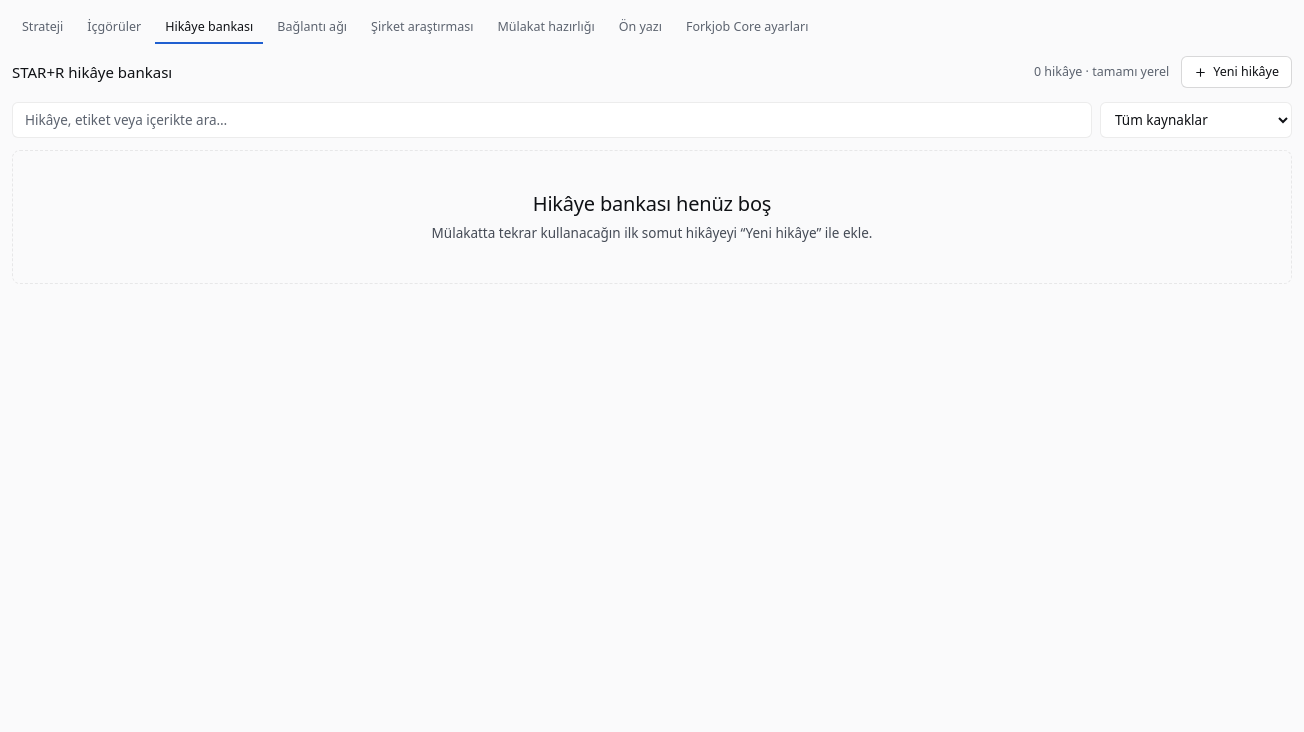
Test: CareerWorkspace › mülakat ve ön yazı sekmelerini boş veriyle çizip çökmez
Click the tab "Mülakat hazırlığı" at (546, 28), box [488, 12, 605, 44]
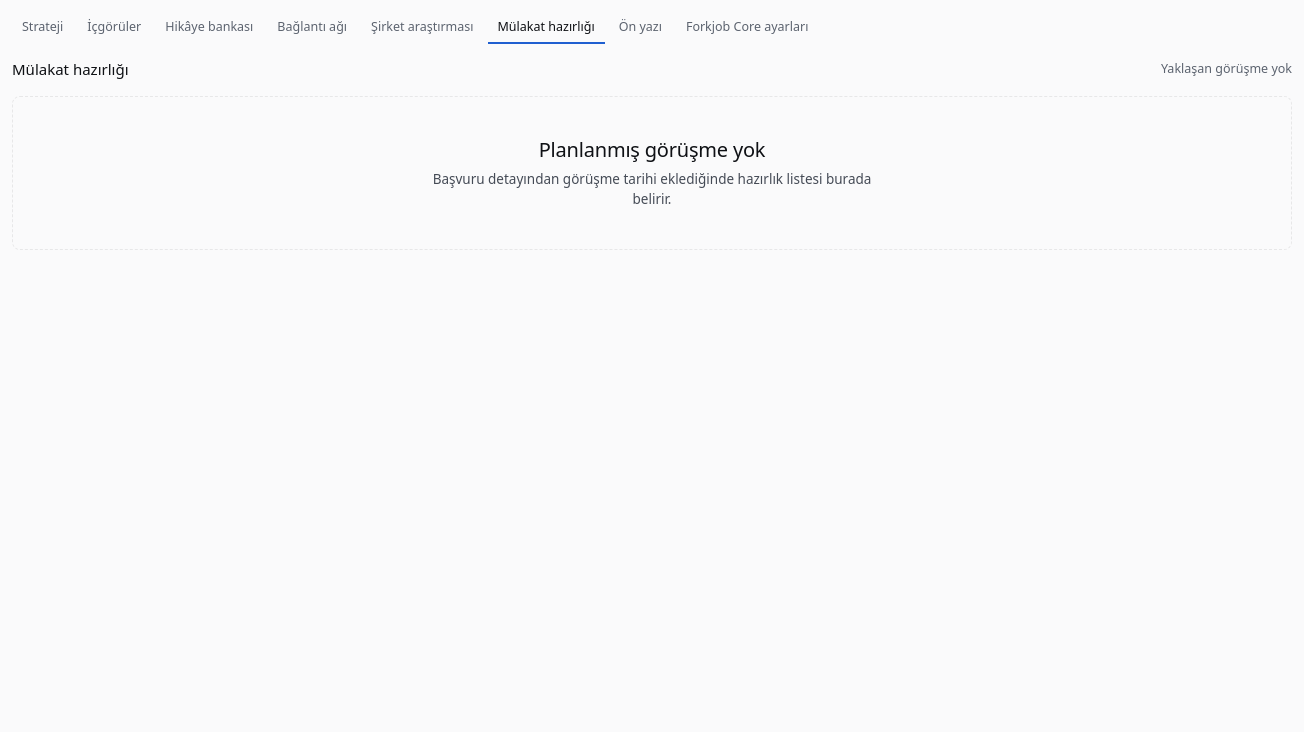
Expected: the text "Planlanmış görüşme yok" is shown, [539, 136, 765, 163]
Click the tab "Ön yazı" at (640, 28), box [609, 12, 672, 44]
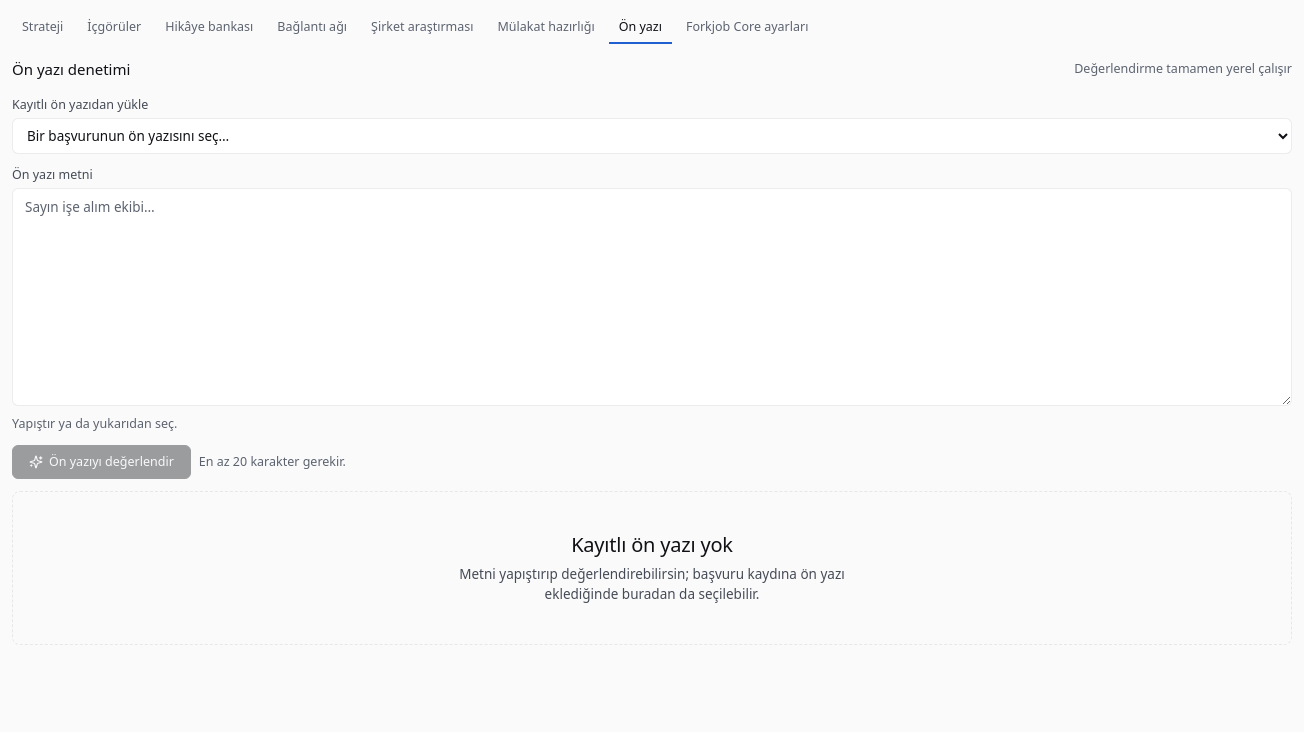
Expected: the heading "Ön yazı denetimi" is shown, [12, 59, 130, 79]
